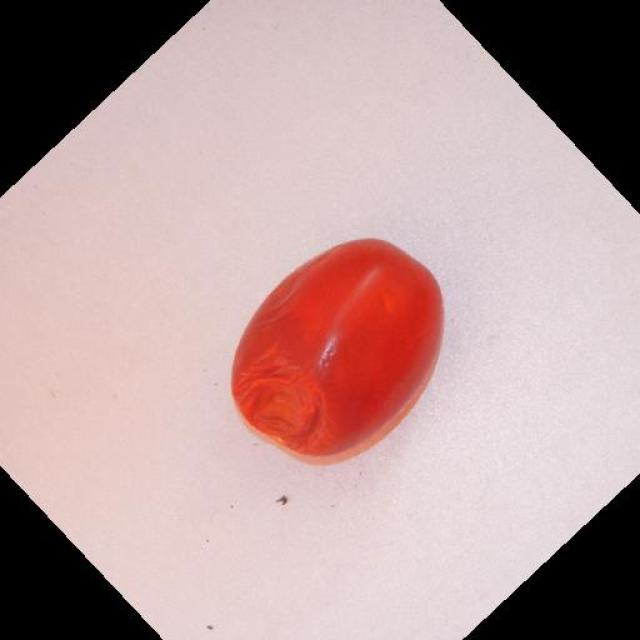Stale_tomato: (233, 329, 343, 471)
